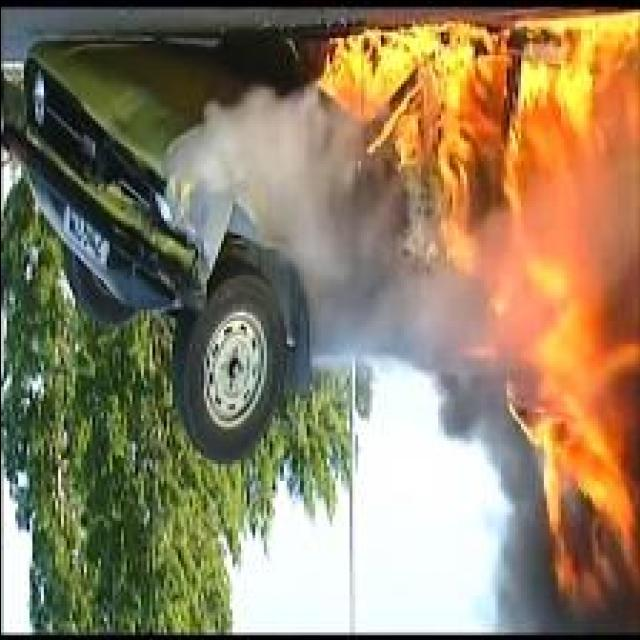Fire: (311, 10, 640, 616)
